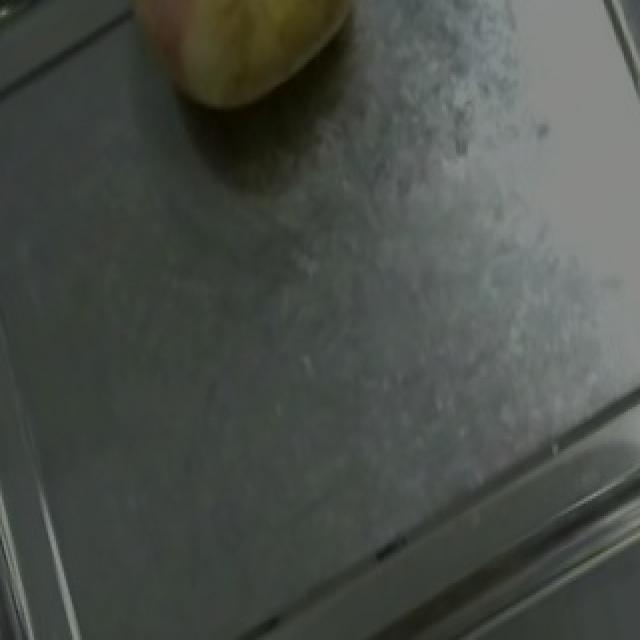Fruit: (94, 0, 386, 146)
